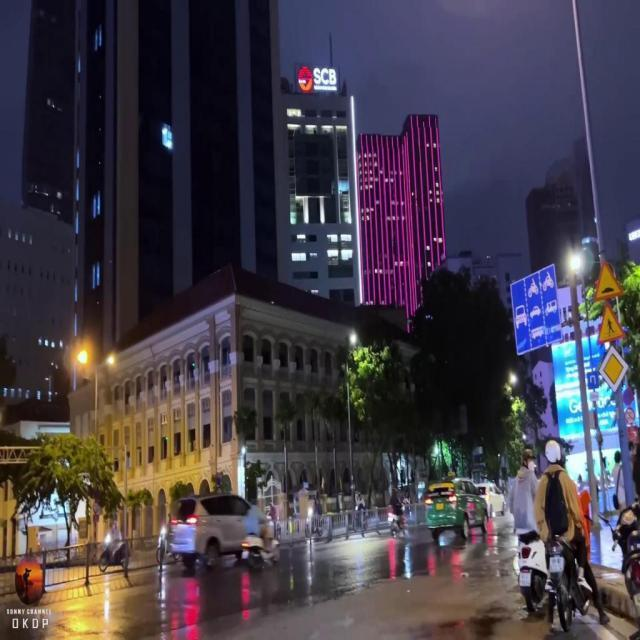221-duong-go-ghe: (594, 260, 624, 298)
225-chu-y-tre-em: (596, 302, 626, 344)
